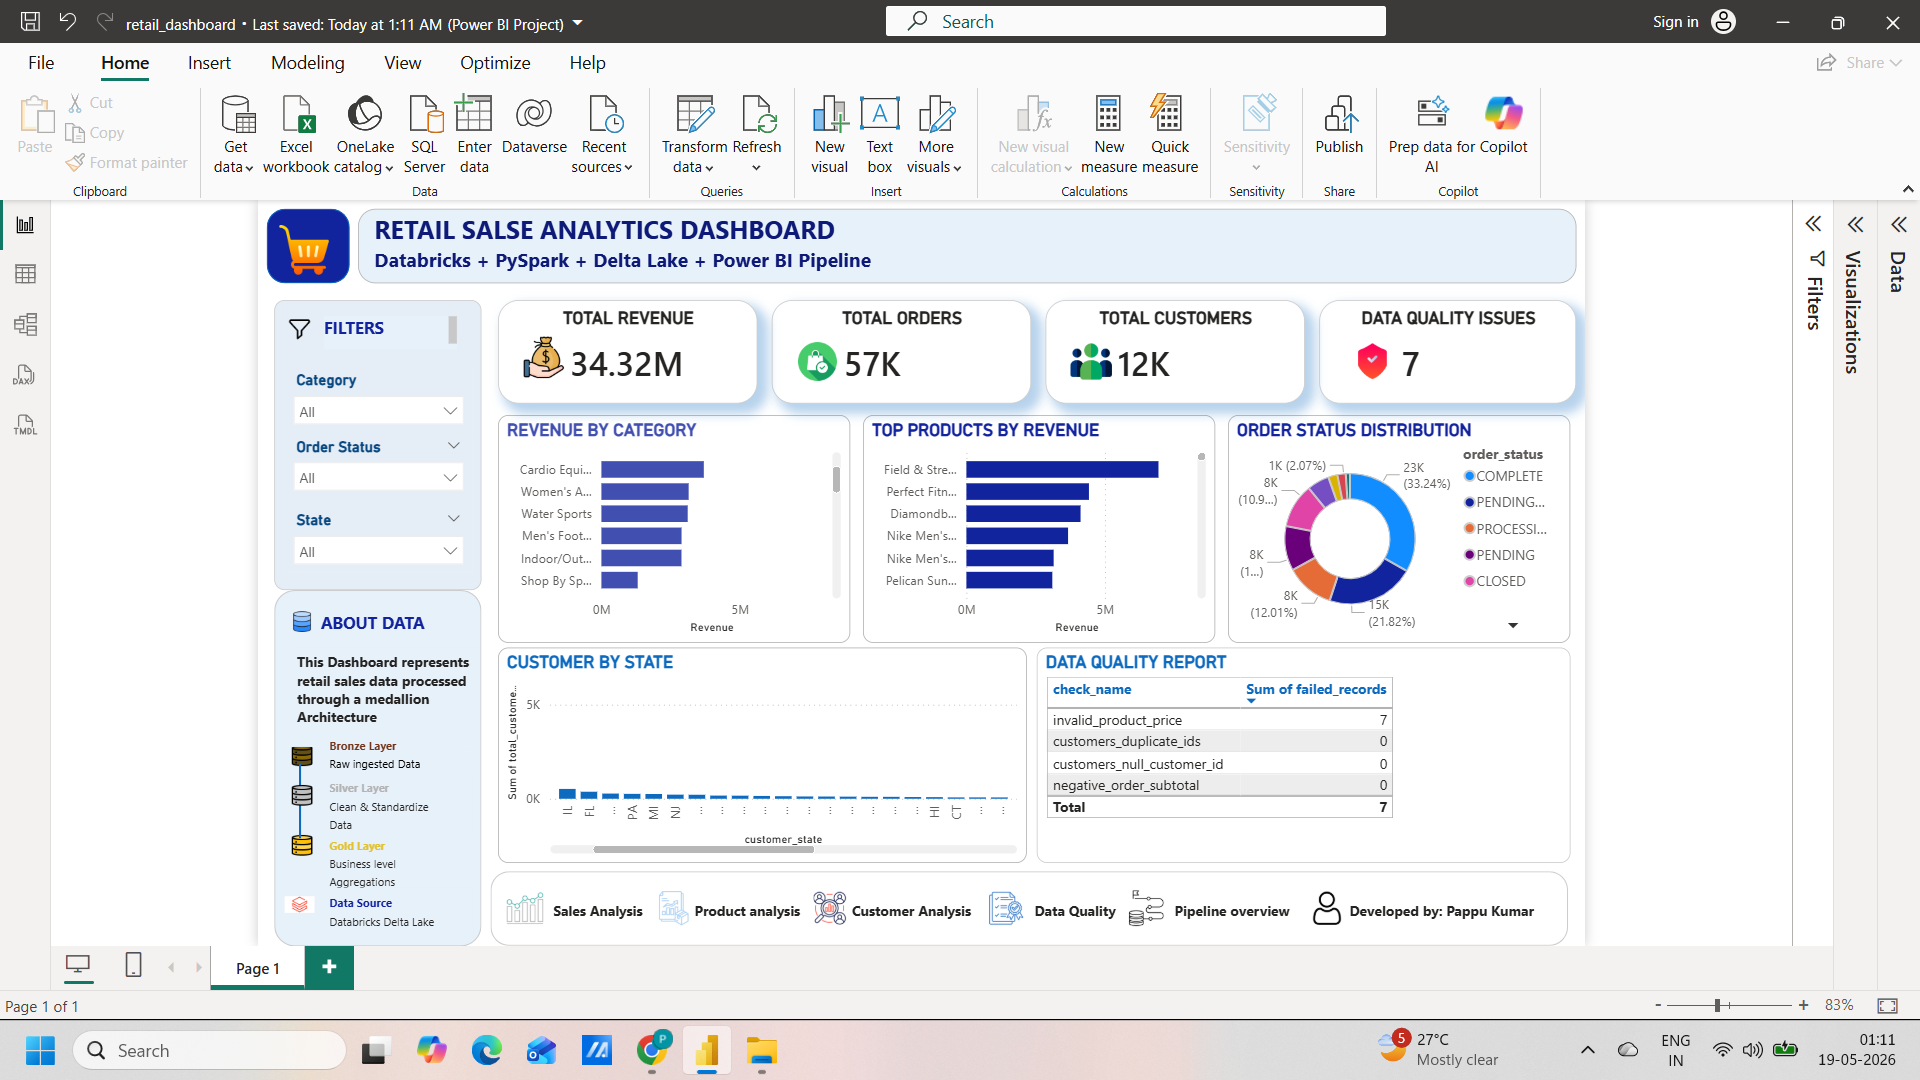

Layout of this report page (visuals, bound fields, positions):
{"tool":"powerbi","page":{"name":"Page 1","canvas":[1280,720],"ordinal":0},"visuals":[{"type":"textbox","box":[96,8,1176,72],"z":0},{"type":"clusteredBarChart","title":"TOP PRODUCTS BY REVENUE","fields":{"Category":["top_products.product_name"],"Y":["Sum(top_products.revenue)"]},"box":[584,208,340,220],"z":1000},{"type":"donutChart","title":"ORDER STATUS DISTRIBUTION","fields":{"Category":["order_status_analysis.order_status"],"Y":["Sum(order_status_analysis.total_orders)"]},"box":[936,208,330,220],"z":2000},{"type":"clusteredColumnChart","title":"CUSTOMER BY STATE","fields":{"Category":["customer_state_analysis.customer_state"],"Y":["Sum(customer_state_analysis.total_customers)"]},"box":[232,432,510,208],"z":3000},{"type":"tableEx","title":"DATA QUALITY REPORT","fields":{"Values":["data_quality_report.check_name","Sum(data_quality_report.failed_records)"]},"box":[752,432,515,208],"z":4000},{"type":"clusteredBarChart","title":"REVENUE BY CATEGORY","fields":{"Category":["category_revenue.category_name"],"Y":["Sum(category_revenue.total_revenue)"]},"box":[232,208,340,220],"z":5000},{"type":"cardVisual","title":"TOTAL ORDERS","fields":{"Data":["Sum(revenue_kpi.total_orders)"]},"box":[496,96,250,100],"z":6000},{"type":"cardVisual","title":"DATA QUALITY ISSUES","fields":{"Data":["Sum(data_quality_report.failed_records)"]},"box":[1024,96,248,100],"z":7000},{"type":"cardVisual","title":"TOTAL CUSTOMERS","fields":{"Data":["Sum(customer_state_analysis.total_customers)"]},"box":[760,96,250,100],"z":8000},{"type":"shape","title":" FILTERS","box":[16,96,200,280],"z":9000},{"type":"slicer","fields":{"Values":["category_revenue.category_name"]},"box":[24,160,184,80],"z":10000},{"type":"slicer","fields":{"Values":["order_status_analysis.order_status"]},"box":[24,224,184,72],"z":11000},{"type":"slicer","fields":{"Values":["customer_state_analysis.customer_state"]},"box":[24,296,184,64],"z":12000},{"type":"shape","box":[8,8,80,72],"z":13000},{"type":"image","box":[8,24,72,48],"z":14000},{"type":"image","box":[520,128,40,56],"z":15000},{"type":"image","box":[784,128,40,56],"z":16000},{"type":"image","box":[1056,128,40,56],"z":17000},{"type":"shape","box":[224,648,1040,72],"z":18000},{"type":"shape","box":[16,376,200,344],"z":19000},{"type":"image","box":[24,112,32,24],"z":20000},{"type":"textbox","box":[64,112,128,32],"z":21000},{"type":"image","box":[32,520,20,32],"z":22000},{"type":"image","box":[32,608,20,30],"z":23000},{"type":"image","box":[32,392,20,30],"z":24000},{"type":"textbox","box":[32,432,180,96],"z":25000},{"type":"textbox","box":[56,392,128,32],"z":26000},{"type":"shape","box":[32,544,16,72],"z":27000},{"type":"image","box":[32,560,20,30],"z":28000},{"type":"textbox","box":[64,552,144,64],"z":29000},{"type":"textbox","box":[64,512,128,48],"z":30000},{"type":"textbox","box":[64,608,128,64],"z":31000},{"type":"image","box":[24,672,32,16],"z":32000},{"type":"textbox","box":[64,664,144,48],"z":33000},{"type":"cardVisual","title":"TOTAL ORDERS","fields":{"Data":["Sum(revenue_kpi.total_revenue)"]},"box":[232,96,250,100],"z":34000},{"type":"image","box":[256,128,40,48],"z":35000},{"type":"image","box":[240,664,35,40],"z":35001},{"type":"image","box":[704,664,35,40],"z":35002},{"type":"image","box":[536,664,32,40],"z":35003},{"type":"image","box":[384,664,35,40],"z":35004},{"type":"image","box":[840,664,35,40],"z":35005},{"type":"image","box":[1016,664,32,40],"z":35006},{"type":"textbox","box":[280,672,104,32],"z":35007},{"type":"textbox","box":[416,672,120,32],"z":35008},{"type":"textbox","box":[568,672,136,32],"z":35009},{"type":"textbox","box":[744,672,96,32],"z":35010},{"type":"textbox","box":[880,672,136,32],"z":35011},{"type":"textbox","box":[1048,672,208,32],"z":35012}]}

Visuals, with their boxes on the page's 1280x720 design canvas (x1, y1, x2, y2). These are canvas units, not pixel positions in the 1920x1080 screenshot, which may show the page scaled, cropped or inside an application window:
textbox: left=96, top=8, right=1272, bottom=80
"TOP PRODUCTS BY REVENUE" clusteredBarChart: left=584, top=208, right=924, bottom=428
"ORDER STATUS DISTRIBUTION" donutChart: left=936, top=208, right=1266, bottom=428
"CUSTOMER BY STATE" clusteredColumnChart: left=232, top=432, right=742, bottom=640
"DATA QUALITY REPORT" tableEx: left=752, top=432, right=1267, bottom=640
"REVENUE BY CATEGORY" clusteredBarChart: left=232, top=208, right=572, bottom=428
"TOTAL ORDERS" cardVisual: left=496, top=96, right=746, bottom=196
"DATA QUALITY ISSUES" cardVisual: left=1024, top=96, right=1272, bottom=196
"TOTAL CUSTOMERS" cardVisual: left=760, top=96, right=1010, bottom=196
" FILTERS" shape: left=16, top=96, right=216, bottom=376
slicer - category_revenue.category_name: left=24, top=160, right=208, bottom=240
slicer - order_status_analysis.order_status: left=24, top=224, right=208, bottom=296
slicer - customer_state_analysis.customer_state: left=24, top=296, right=208, bottom=360
shape: left=8, top=8, right=88, bottom=80
image: left=8, top=24, right=80, bottom=72
image: left=520, top=128, right=560, bottom=184
image: left=784, top=128, right=824, bottom=184
image: left=1056, top=128, right=1096, bottom=184
shape: left=224, top=648, right=1264, bottom=720
shape: left=16, top=376, right=216, bottom=720
image: left=24, top=112, right=56, bottom=136
textbox: left=64, top=112, right=192, bottom=144
image: left=32, top=520, right=52, bottom=552
image: left=32, top=608, right=52, bottom=638
image: left=32, top=392, right=52, bottom=422
textbox: left=32, top=432, right=212, bottom=528
textbox: left=56, top=392, right=184, bottom=424
shape: left=32, top=544, right=48, bottom=616
image: left=32, top=560, right=52, bottom=590
textbox: left=64, top=552, right=208, bottom=616
textbox: left=64, top=512, right=192, bottom=560
textbox: left=64, top=608, right=192, bottom=672
image: left=24, top=672, right=56, bottom=688
textbox: left=64, top=664, right=208, bottom=712
"TOTAL ORDERS" cardVisual: left=232, top=96, right=482, bottom=196
image: left=256, top=128, right=296, bottom=176
image: left=240, top=664, right=275, bottom=704
image: left=704, top=664, right=739, bottom=704
image: left=536, top=664, right=568, bottom=704
image: left=384, top=664, right=419, bottom=704
image: left=840, top=664, right=875, bottom=704
image: left=1016, top=664, right=1048, bottom=704
textbox: left=280, top=672, right=384, bottom=704
textbox: left=416, top=672, right=536, bottom=704
textbox: left=568, top=672, right=704, bottom=704
textbox: left=744, top=672, right=840, bottom=704
textbox: left=880, top=672, right=1016, bottom=704
textbox: left=1048, top=672, right=1256, bottom=704
